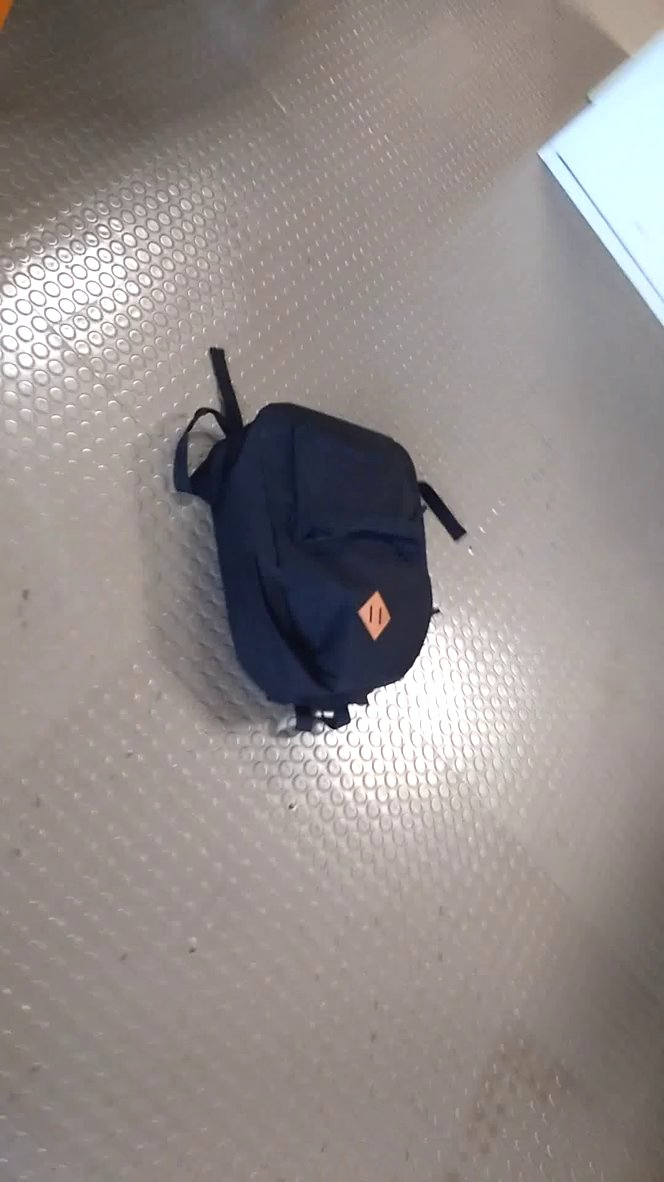bag: (169, 331, 480, 737)
